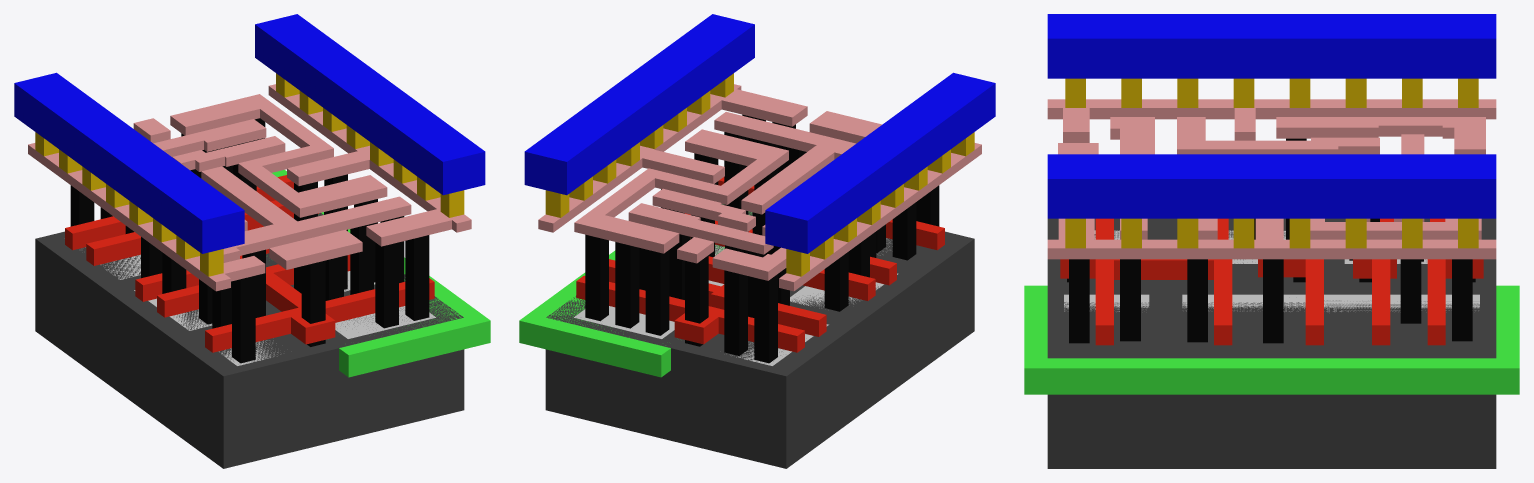
File: sky130_fd_sc_hd__mux2i_1.obj
The picture shows the model from 3 angles, left to right: view 1: azimuth 30°, elevation 25°; view 2: azimuth 150°, elevation 25°; view 3: azimuth 270°, elevation 25°; orthographic projection. The views are drawn at different scales.
Visible parts, largest first — view 1: subs, metal1, li, licon, poly, nwell, mcon, diff, tap; view 2: subs, metal1, li, licon, poly, nwell, mcon, diff, tap; view 3: metal1, subs, li, nwell, poly, licon, mcon, tap.
Part boxes in pixels (<box>): subs: <box>35,213,464,468</box>; metal1: <box>14,14,485,253</box>; li: <box>28,84,471,291</box>; licon: <box>70,118,429,363</box>; poly: <box>65,175,434,352</box>; nwell: <box>272,170,490,377</box>; mcon: <box>35,73,464,276</box>; diff: <box>85,247,280,365</box>; tap: <box>335,271,435,338</box>; subs: <box>545,204,974,468</box>; metal1: <box>524,14,995,253</box>; li: <box>538,84,981,291</box>; licon: <box>585,114,939,363</box>; poly: <box>576,177,944,352</box>; nwell: <box>519,211,751,377</box>; mcon: <box>545,73,974,276</box>; diff: <box>730,238,898,365</box>; tap: <box>574,212,751,338</box>; metal1: <box>1047,14,1496,218</box>; subs: <box>1047,218,1496,468</box>; li: <box>1047,99,1496,259</box>; nwell: <box>1024,285,1519,394</box>; poly: <box>1060,218,1483,345</box>; licon: <box>1067,138,1475,343</box>; mcon: <box>1065,78,1478,248</box>; tap: <box>1064,294,1479,311</box>.
Bounding box in the file's own units: 3.2 × 2.74 × 4.06.
